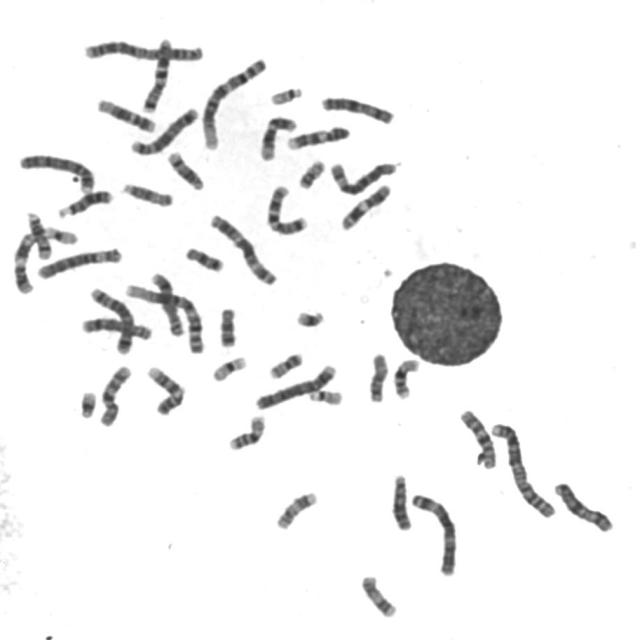A1: (198, 54, 270, 152), (120, 280, 208, 355)
A2: (487, 418, 559, 520), (79, 35, 207, 64)
A3: (205, 210, 280, 287), (408, 489, 460, 577)
B4: (252, 360, 339, 412), (15, 148, 97, 194)
B5: (127, 102, 200, 156), (86, 283, 136, 356)
C10: (456, 405, 499, 471), (95, 361, 133, 429)
C11: (12, 224, 55, 297), (336, 179, 394, 232)
C12: (92, 94, 158, 134), (256, 112, 298, 162)
C6: (33, 243, 125, 282), (326, 156, 399, 196)
C7: (138, 34, 175, 113), (262, 181, 310, 237)
C8: (145, 272, 189, 344), (77, 313, 154, 342)
C9: (143, 362, 187, 416), (283, 122, 353, 151)
D13: (54, 185, 115, 219), (388, 470, 414, 532)
D14: (163, 148, 206, 192), (21, 207, 54, 260)
D15: (118, 178, 175, 208), (366, 349, 390, 404)
E16: (225, 411, 268, 452), (390, 354, 422, 400)
E17: (272, 487, 320, 531), (356, 571, 399, 619)
E18: (182, 242, 226, 274), (215, 303, 239, 350)
F19: (208, 352, 249, 383), (42, 223, 79, 246)
F20: (266, 349, 306, 380), (295, 156, 327, 190)
G21: (292, 306, 328, 329), (75, 387, 99, 420)
G22: (266, 82, 305, 107), (305, 385, 345, 406)
X: (550, 478, 616, 534), (318, 92, 397, 125)
